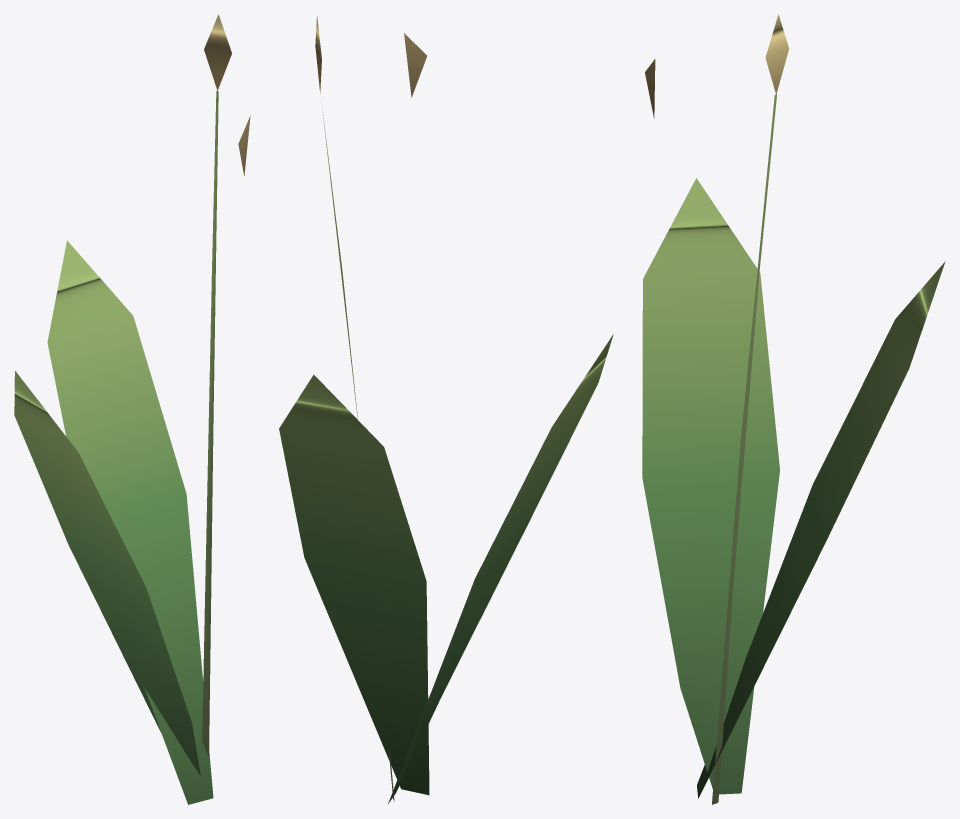
File: PlantainCluster_LOD2.glb
3 renders of one model, left to right at view 1: azimuth 30°, elevation 25°; view 2: azimuth 150°, elevation 25°; view 3: azimuth 270°, elevation 25°, orthographic. The views are drawn at different scales.
Parts seen in each view (by area): view 1: PlantainCluster_LOD2; view 2: PlantainCluster_LOD2; view 3: PlantainCluster_LOD2.
Part boxes in pixels (left/top/right/bottom): PlantainCluster_LOD2: left=14, top=14, right=250, bottom=804; PlantainCluster_LOD2: left=279, top=15, right=613, bottom=803; PlantainCluster_LOD2: left=642, top=14, right=945, bottom=804.
Size of the model in its own units: 0.104 by 0.2998 by 0.1014.
